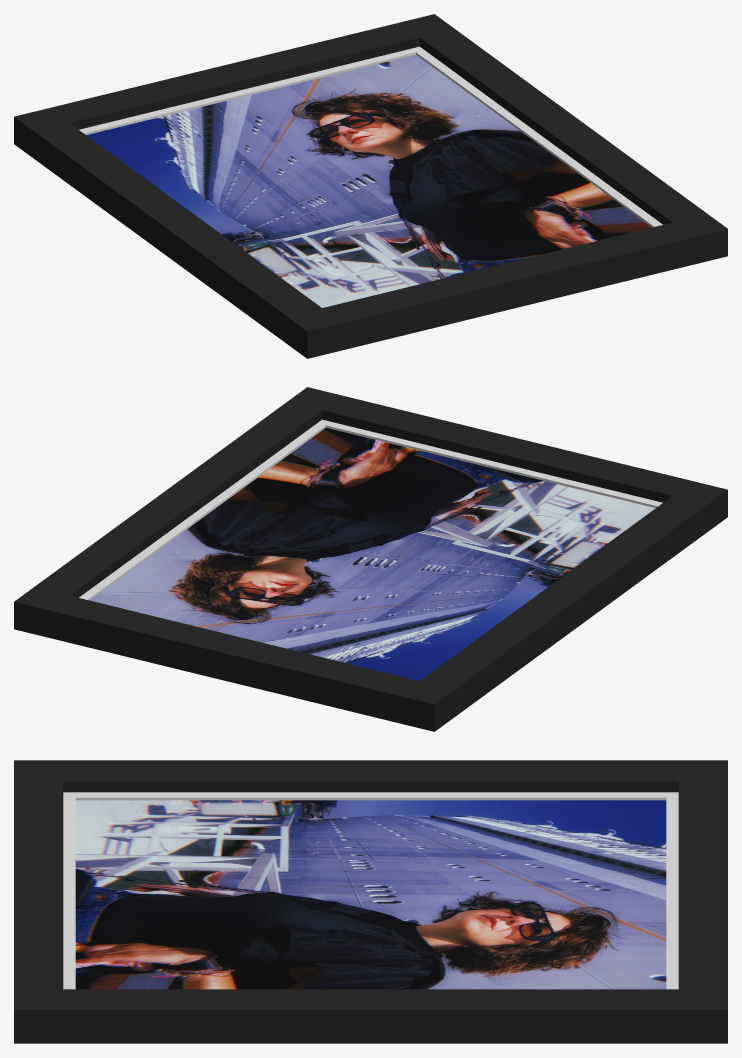
3 renders of one model, top to bottom at view 1: azimuth 30°, elevation 25°; view 2: azimuth 150°, elevation 25°; view 3: azimuth 270°, elevation 25°, orthographic. The views are drawn at different scales.
Visible parts, largest first — view 1: PhotoPlane.002, BuitenFrame, BinnenFrame; view 2: PhotoPlane.002, BuitenFrame, BinnenFrame; view 3: PhotoPlane.002, BuitenFrame, BinnenFrame.
Boxes of the visible parts, x1=… form: PhotoPlane.002: x1=86, y1=55, x2=651, y2=307; BuitenFrame: x1=14, y1=14, x2=727, y2=358; BinnenFrame: x1=79, y1=46, x2=662, y2=227; PhotoPlane.002: x1=90, y1=428, x2=655, y2=680; BuitenFrame: x1=14, y1=387, x2=727, y2=731; BinnenFrame: x1=79, y1=419, x2=662, y2=600; PhotoPlane.002: x1=75, y1=800, x2=666, y2=989; BuitenFrame: x1=14, y1=760, x2=727, y2=1043; BinnenFrame: x1=63, y1=792, x2=678, y2=989.
Size of the model in its own units: 0.48 by 0.03 by 0.58.
3 materials, 1 textured.
